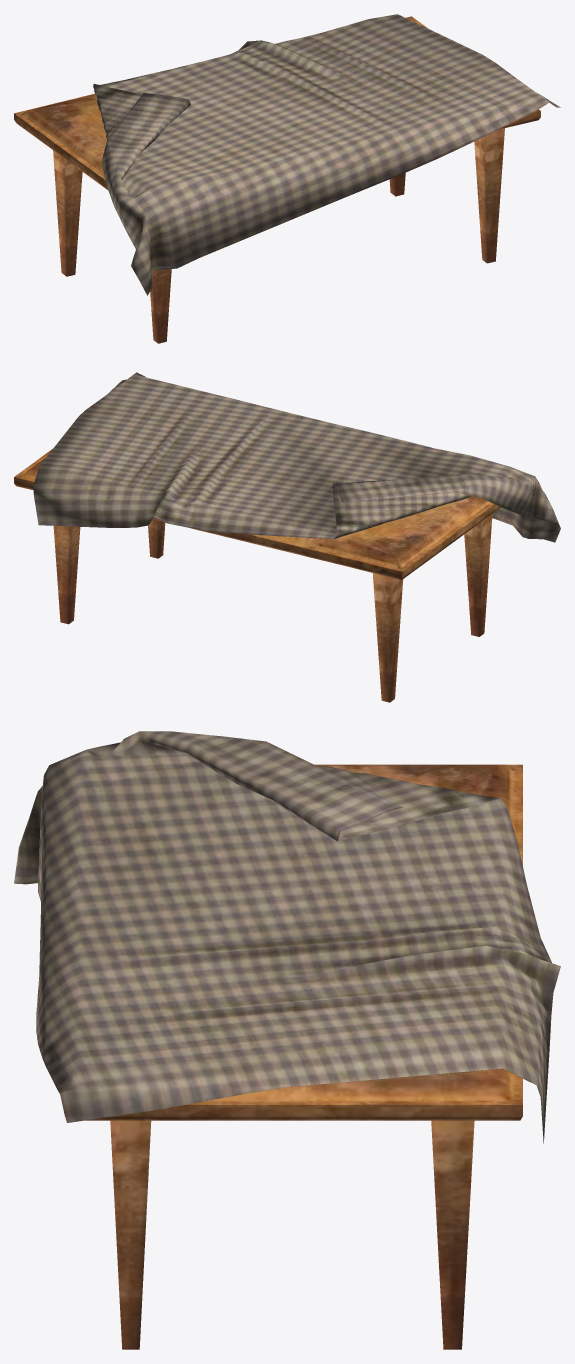
File: ph-dining_table.glb
The picture shows the model from 3 angles, top to bottom: view 1: azimuth 30°, elevation 25°; view 2: azimuth 150°, elevation 25°; view 3: azimuth 270°, elevation 25°; orthographic projection. The views are drawn at different scales.
Visible parts, largest first — view 1: dining_table; view 2: dining_table; view 3: dining_table.
Part boxes in pixels (x1,y1,x2,y2): dining_table: [14, 14, 560, 343]; dining_table: [14, 372, 560, 702]; dining_table: [14, 731, 560, 1349].
Size of the model in its own units: 1 by 0.3887 by 0.6163.
Materials: 1 (1 with a texture image).
